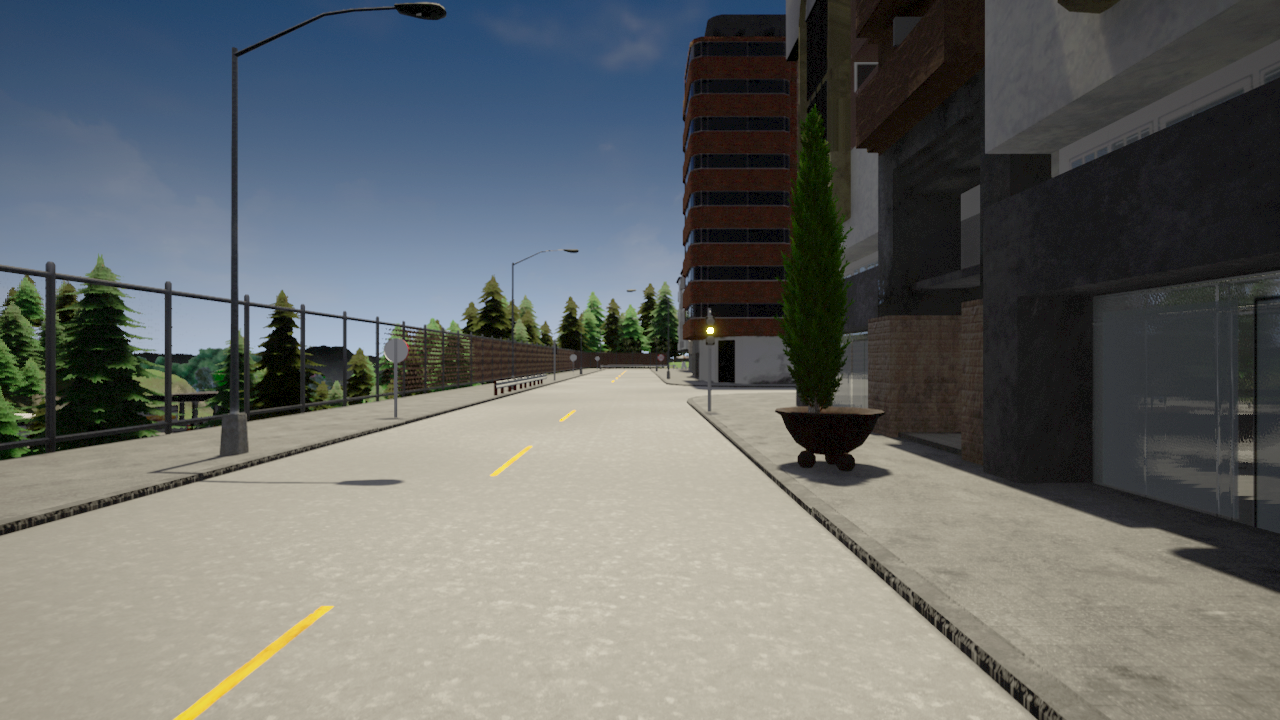yellow: (704, 315, 716, 346)
